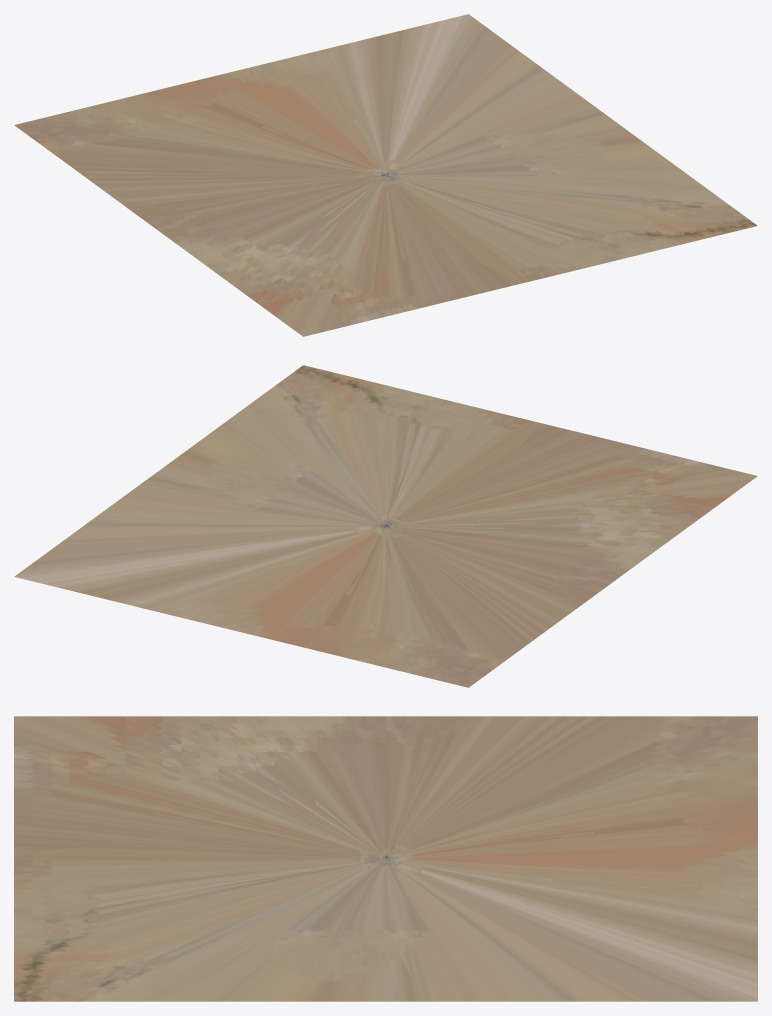
The model's file is riyadh-skyline.glb.
3 views of the same model, one above another, from view 1: azimuth 30°, elevation 25°; view 2: azimuth 150°, elevation 25°; view 3: azimuth 270°, elevation 25° (orthographic). The views are drawn at different scales.
Parts seen in each view (by area): view 1: RiyadhSatelliteTerrain_10xExtension, RiyadhSatelliteTerrain; view 2: RiyadhSatelliteTerrain_10xExtension, RiyadhSatelliteTerrain; view 3: RiyadhSatelliteTerrain_10xExtension, RiyadhSatelliteTerrain.
Part boxes in pixels (x1,y1,x2,y2): RiyadhSatelliteTerrain_10xExtension: (14,14,757,336); RiyadhSatelliteTerrain: (353,159,412,187); RiyadhSatelliteTerrain_10xExtension: (14,365,757,687); RiyadhSatelliteTerrain: (349,515,410,539); RiyadhSatelliteTerrain_10xExtension: (14,716,757,1001); RiyadhSatelliteTerrain: (348,844,423,873).
Bounding box in the file's own units: 454 × 3.09 × 500.
10 materials, 4 textured.
